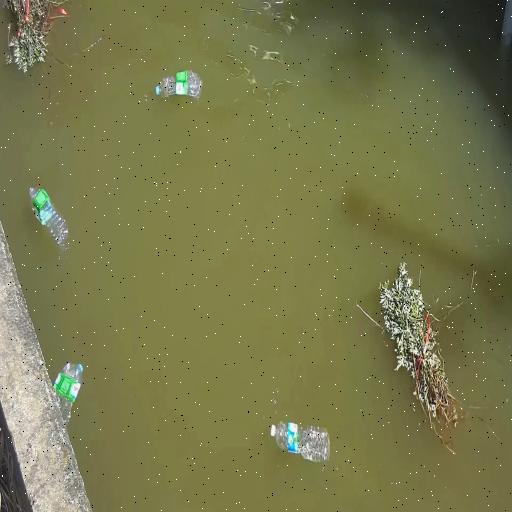plastic: (270, 422, 328, 462), (29, 188, 67, 249), (53, 363, 82, 425), (155, 71, 201, 99), (270, 425, 275, 437), (155, 85, 159, 95)
twig: (380, 262, 459, 451), (0, 0, 61, 73)
